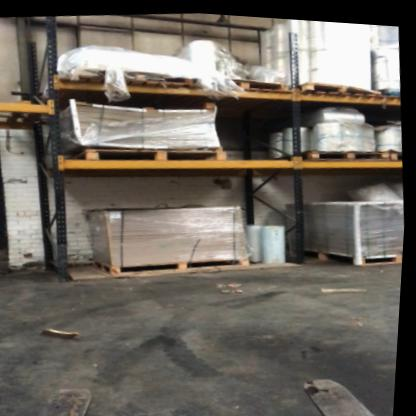vertical_damage: (54, 229, 80, 255)
